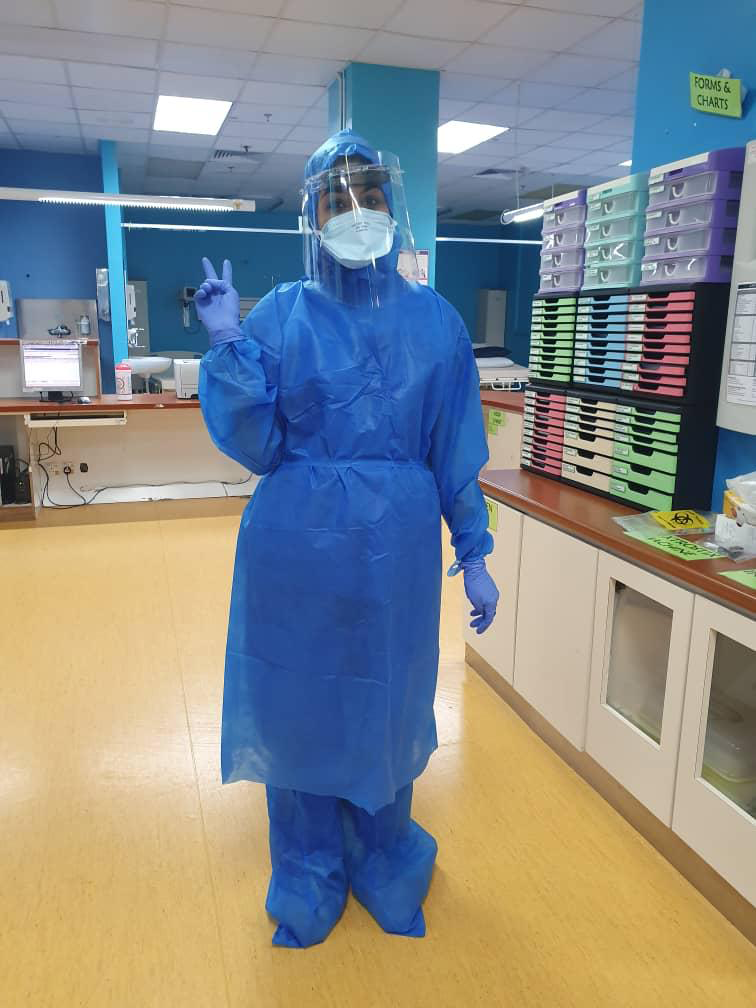Coverall: (209, 142, 484, 905)
Gloves: (192, 252, 246, 343), (453, 549, 502, 637)
with_mask: (317, 195, 402, 269)
